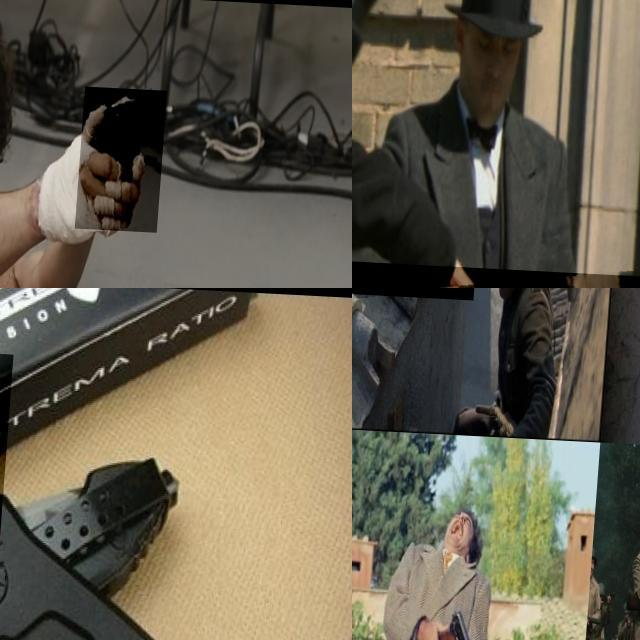-: (0, 340, 138, 611)
gun-knife-thesis - v11 Yolov5 augmented: (79, 83, 169, 228), (352, 288, 485, 372), (424, 594, 526, 640)
